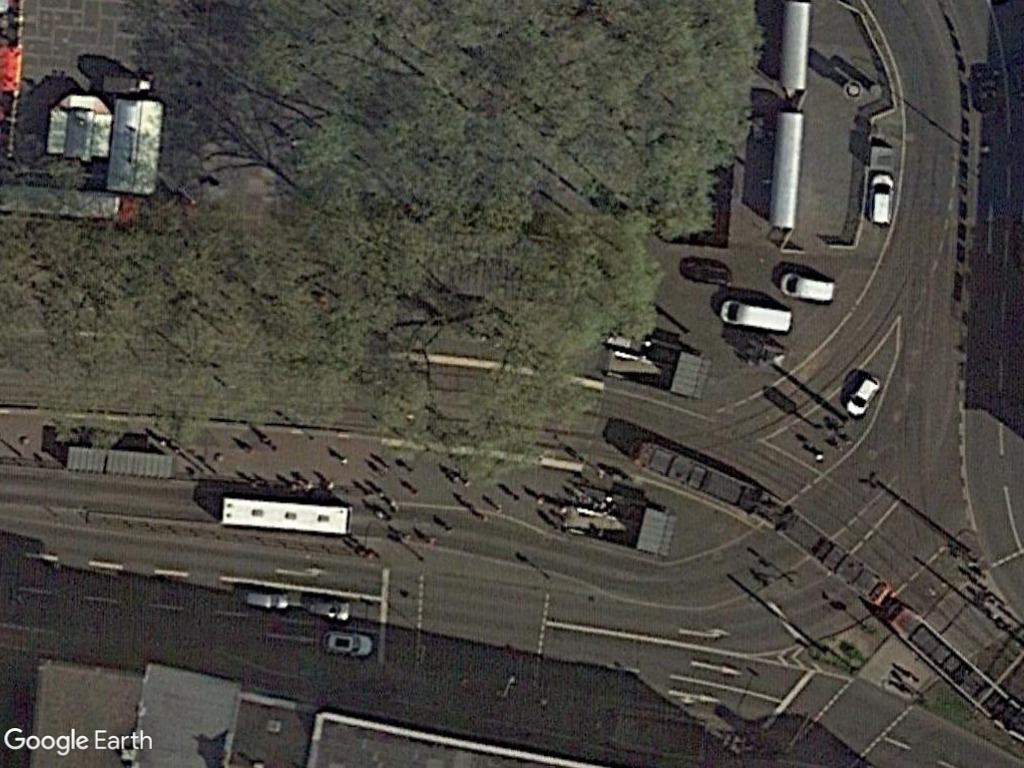bus: (214, 488, 359, 550)
car: (315, 624, 377, 669), (843, 366, 882, 427)
van: (715, 291, 798, 338), (776, 263, 840, 310), (862, 163, 901, 232)
